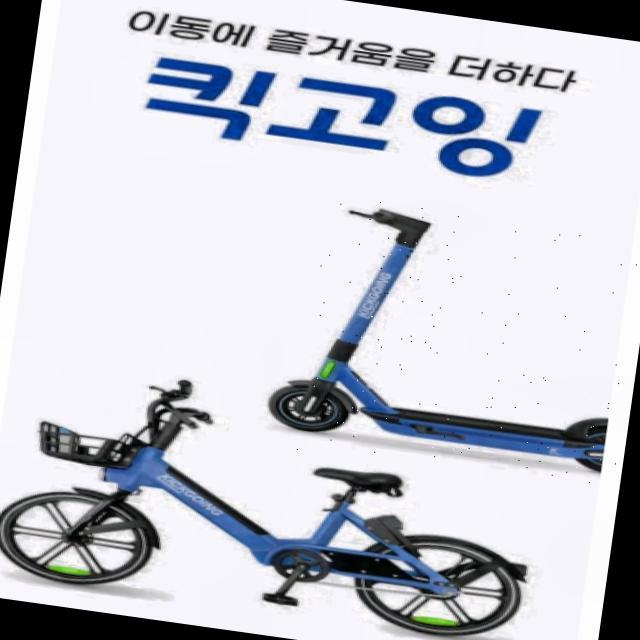bike: (267, 207, 634, 635), (0, 379, 528, 638)
